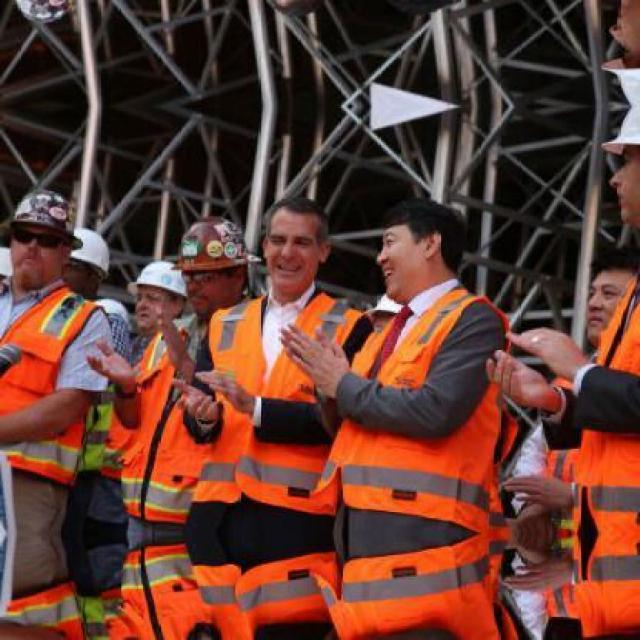NoHelmet: (375, 199, 470, 298), (259, 196, 330, 293)
